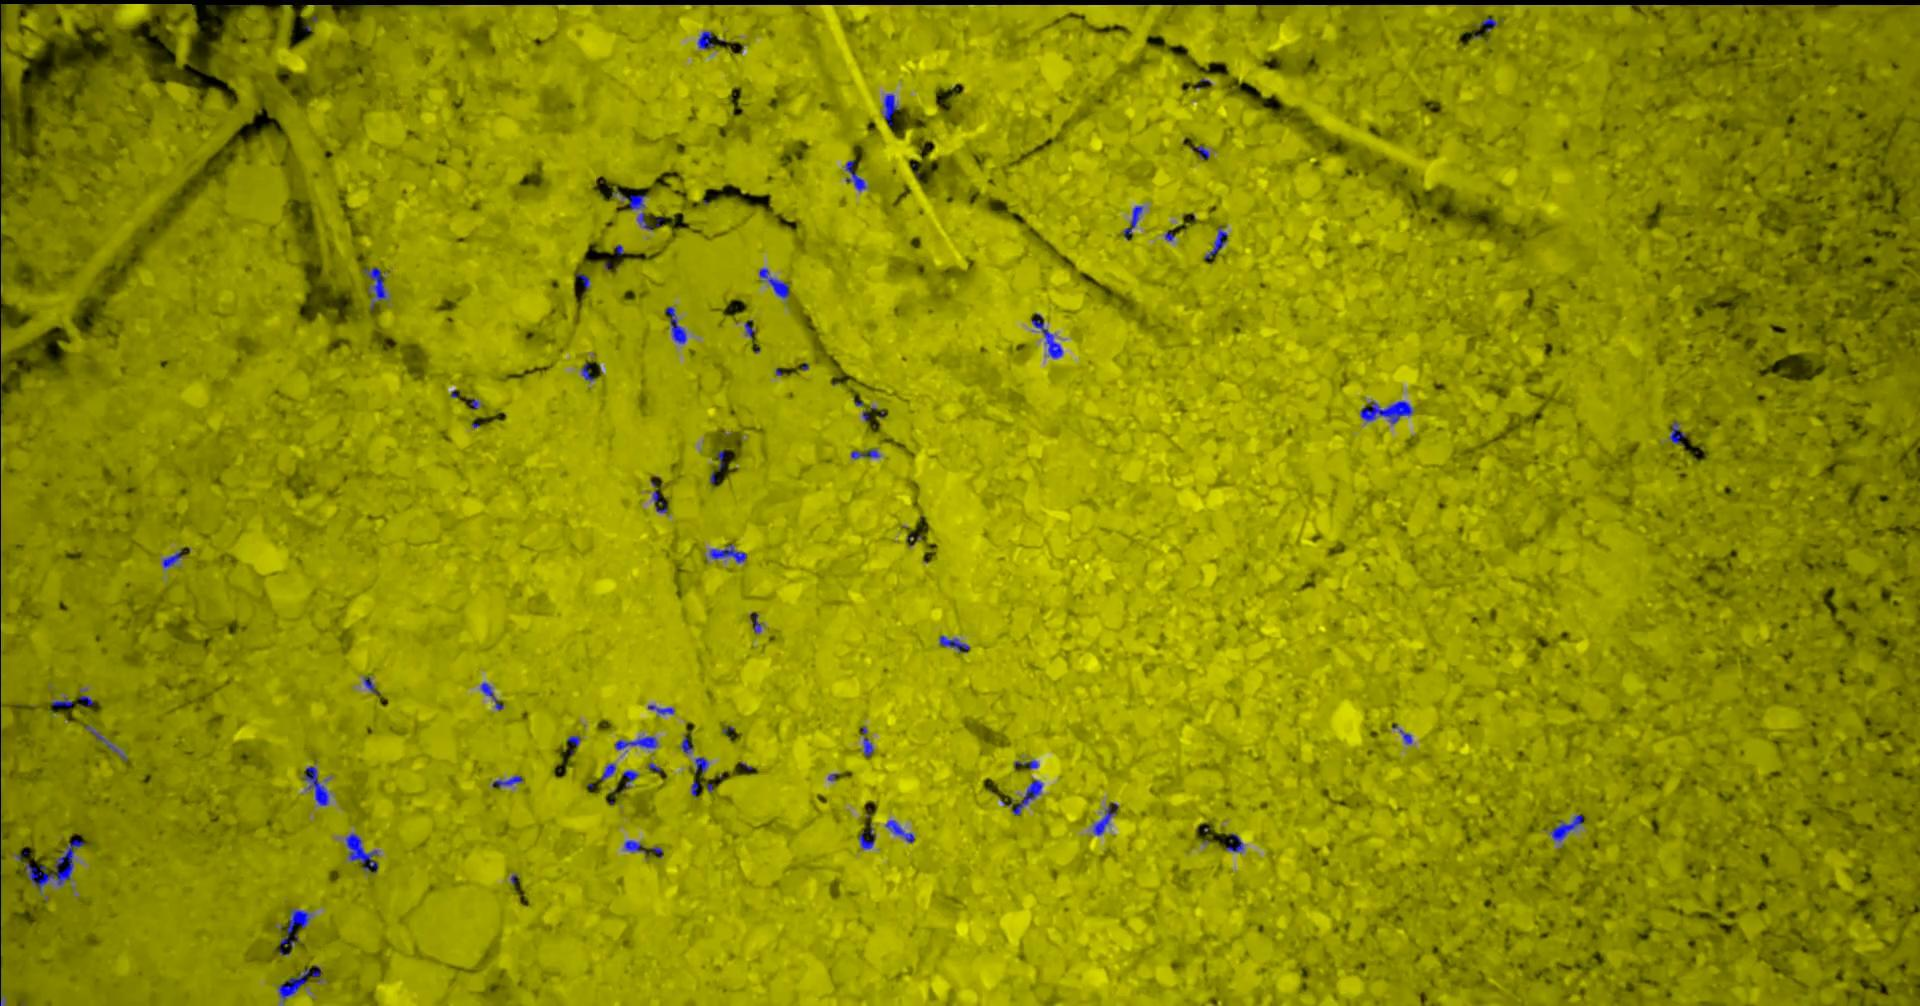ant: (24, 840, 83, 894), (277, 965, 321, 1001), (84, 725, 127, 760), (1031, 312, 1062, 358), (279, 909, 310, 955), (345, 833, 378, 873), (1359, 400, 1412, 423), (1012, 779, 1043, 815), (301, 766, 328, 805), (758, 267, 789, 297), (1549, 814, 1583, 841), (1092, 801, 1117, 835), (362, 267, 386, 300), (664, 306, 686, 343), (1204, 227, 1227, 259), (884, 819, 914, 842), (1123, 205, 1143, 238), (709, 544, 745, 561), (844, 159, 865, 191), (480, 682, 503, 710), (623, 840, 662, 856), (615, 735, 657, 749), (650, 480, 667, 512), (938, 635, 969, 652), (883, 93, 897, 124), (621, 194, 646, 210), (491, 775, 522, 788), (858, 823, 874, 848), (161, 549, 183, 567), (1669, 420, 1685, 443), (861, 727, 872, 757), (1225, 833, 1243, 851), (51, 697, 72, 711), (850, 448, 879, 459), (622, 770, 637, 789), (697, 30, 712, 48), (648, 704, 674, 714), (599, 763, 615, 780), (363, 676, 377, 694), (1481, 17, 1497, 30), (695, 757, 709, 774), (582, 362, 594, 380), (681, 735, 693, 753), (1192, 145, 1209, 158), (744, 319, 754, 338)
